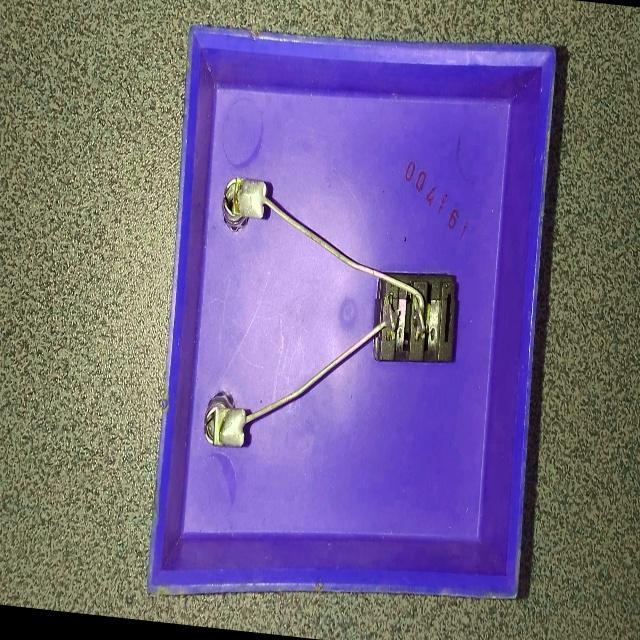ON-OFF Switch: (116, 12, 596, 640)
